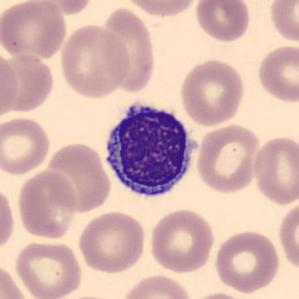Lymphocyte: (98, 96, 203, 204)
RBC: (58, 22, 132, 100), (98, 4, 158, 96), (194, 122, 262, 195), (177, 57, 246, 128), (45, 140, 112, 213), (75, 209, 148, 275), (148, 206, 217, 274), (212, 227, 282, 293), (15, 168, 79, 240), (13, 239, 84, 298), (1, 0, 68, 62), (1, 51, 56, 116), (251, 132, 298, 207), (0, 114, 52, 177), (254, 43, 298, 104), (193, 0, 251, 43), (118, 272, 194, 299), (0, 47, 25, 120), (277, 198, 298, 273), (120, 0, 201, 18), (267, 0, 298, 44), (0, 260, 32, 299), (0, 183, 17, 255), (29, 0, 95, 17), (185, 290, 252, 299), (55, 293, 125, 299)
